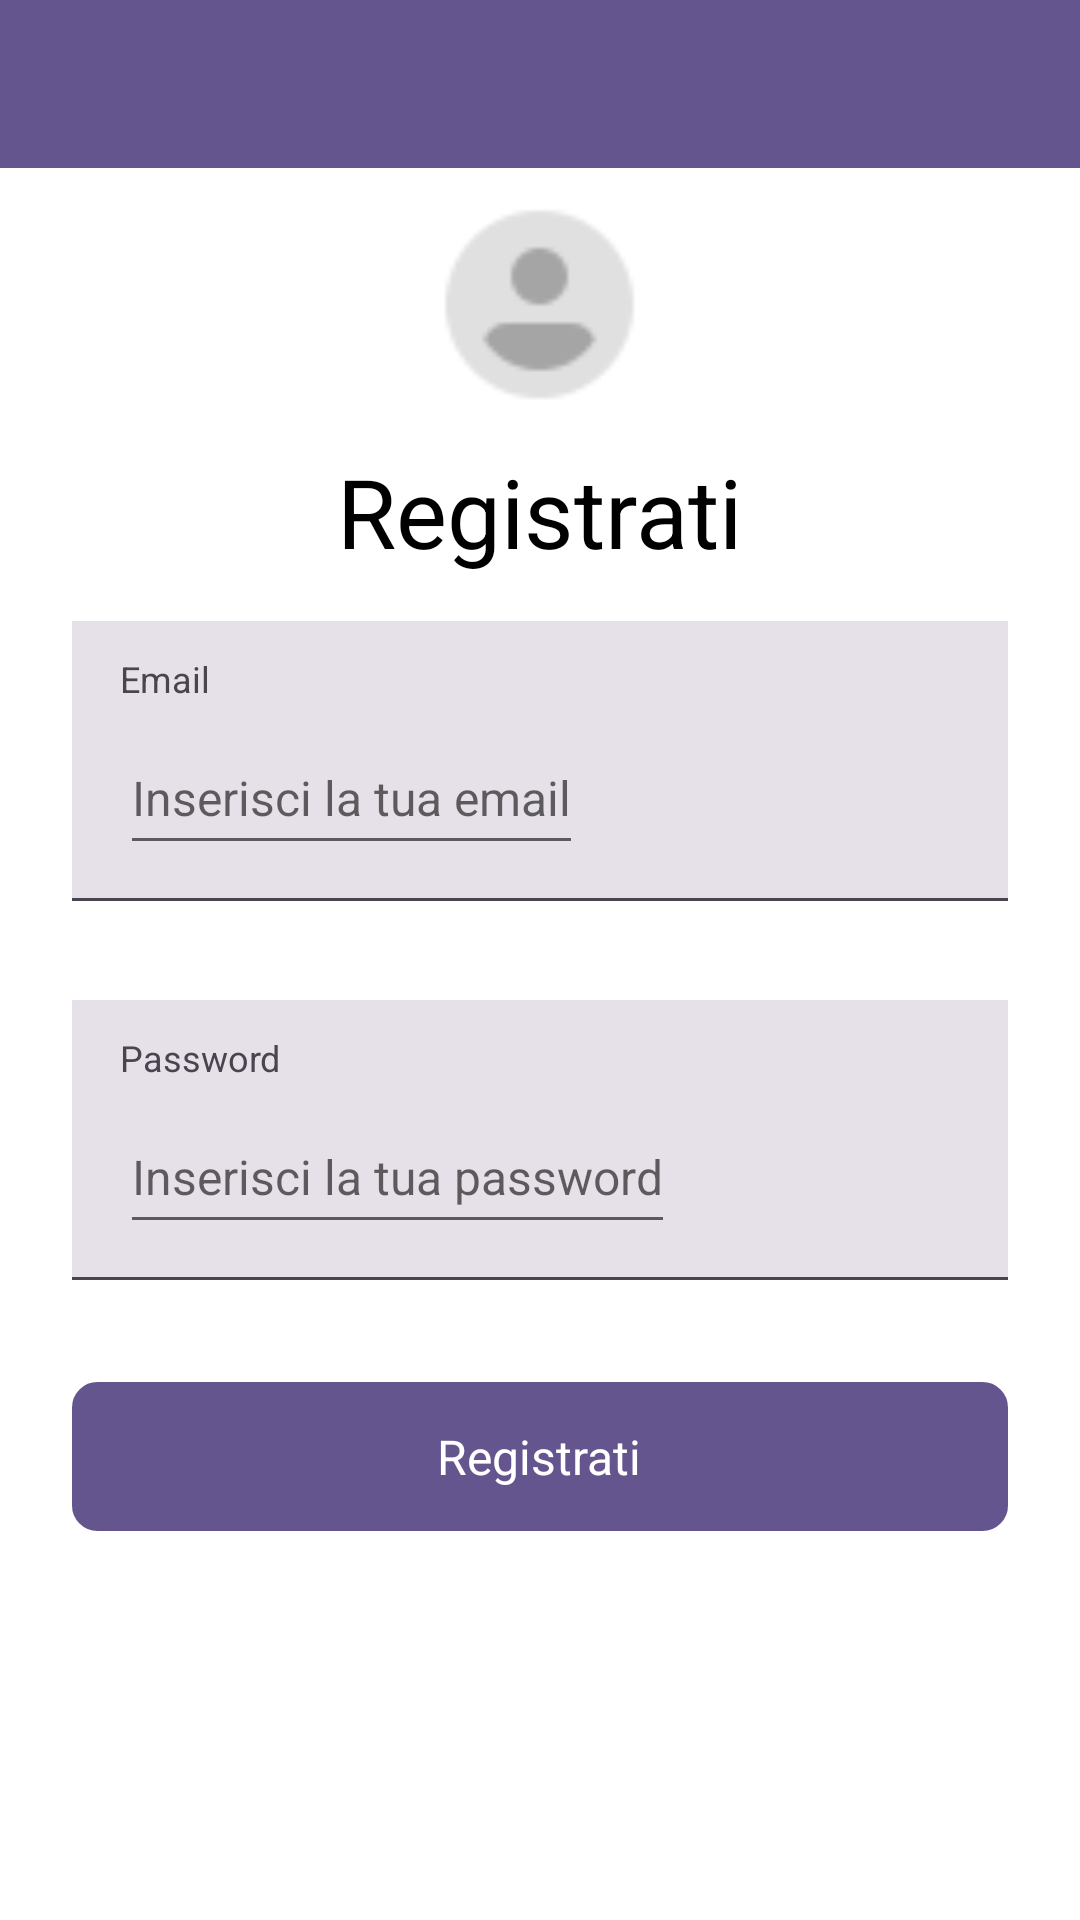

Where icons sit on this 1080×1920 app screen, as Rect(x1, y1, x2, y2):
account: Rect(447, 212, 632, 397)
